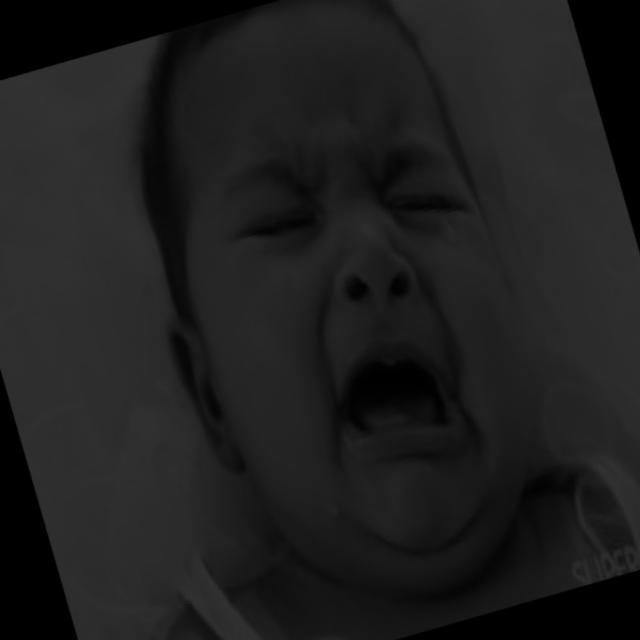Sad: (159, 62, 574, 552)
